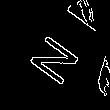N_SE: (24, 30, 86, 91)
